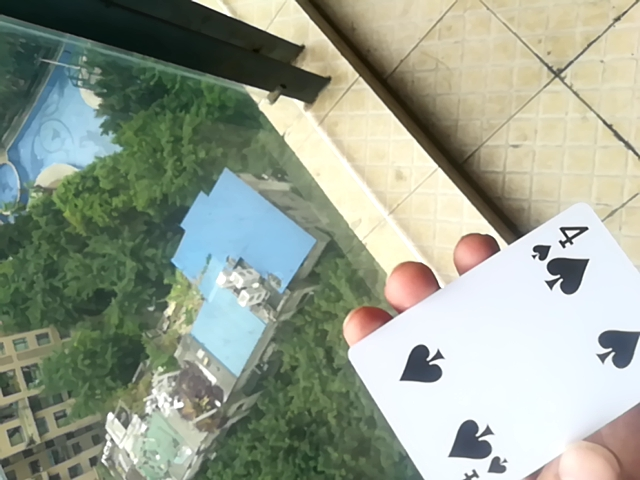ht 4: (337, 201, 639, 478)
